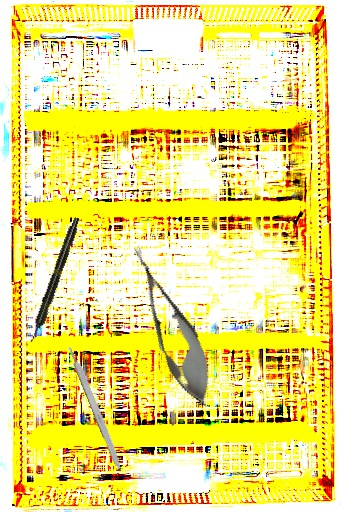Handpiece: (26, 216, 83, 344)
Micro Scissor: (116, 237, 226, 415)
Scalpel Handle: (66, 344, 126, 473)
